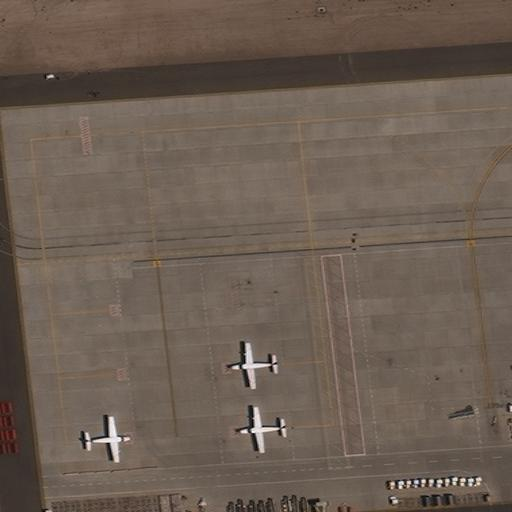Medium Civil Transport: (82, 416, 131, 463), (228, 343, 278, 388), (239, 407, 289, 452)
